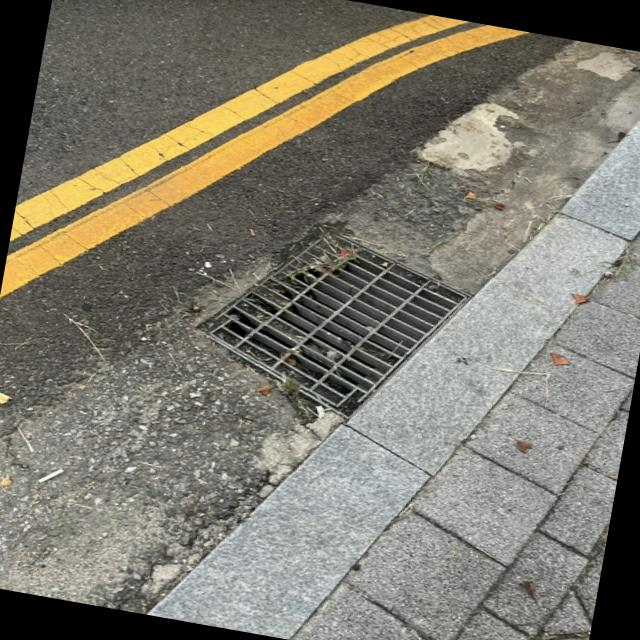drain_area: (276, 257, 455, 393), (222, 310, 299, 359)
drain_full: (199, 232, 466, 419)
